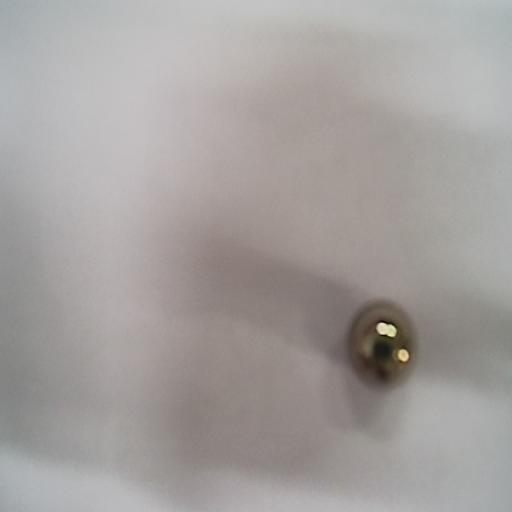steel-ball: (352, 292, 420, 386)
